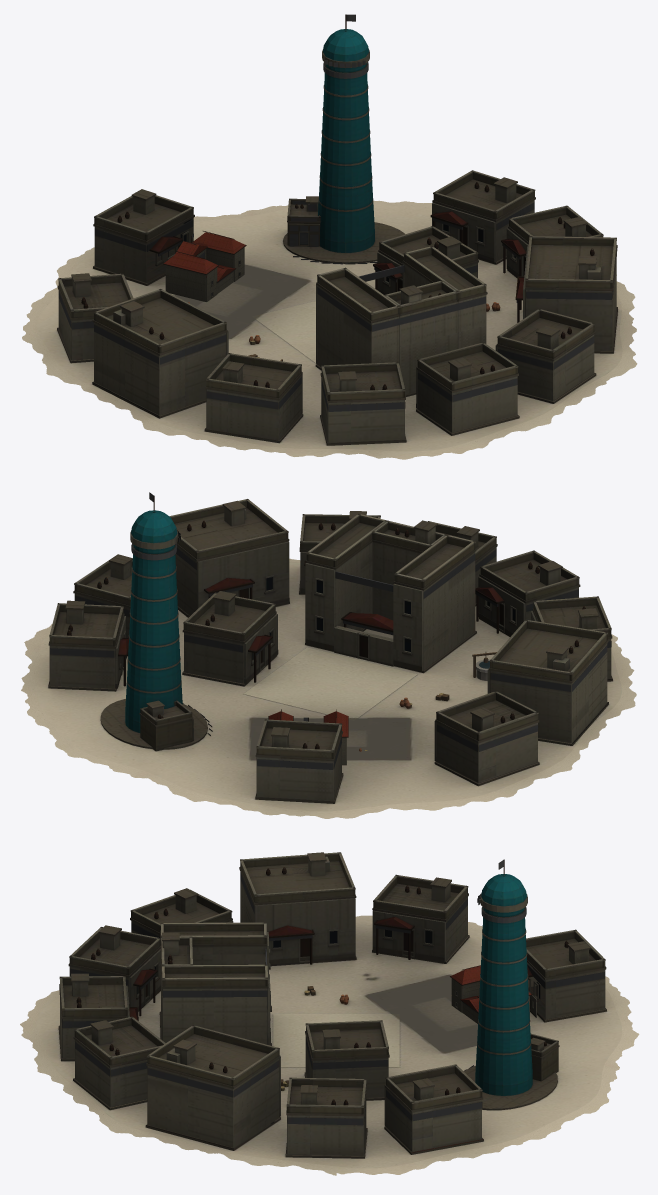
The model's file is gunpowder-town-medium-a-steppe-17c70a0d.glb.
The picture shows the model from 3 angles, top to bottom: view 1: azimuth 30°, elevation 25°; view 2: azimuth 150°, elevation 25°; view 3: azimuth 270°, elevation 25°; orthographic projection.
Parts seen in each view (by area): view 1: LOD0; view 2: LOD0; view 3: LOD0.
Part boxes in pixels (x1,y1,x2,y2): LOD0: [22, 14, 637, 459]; LOD0: [21, 492, 636, 818]; LOD0: [20, 852, 639, 1175].
Size of what is drawn, in the model's own units: 6.02 by 2.4 by 5.99.
3 materials, 3 textured.
